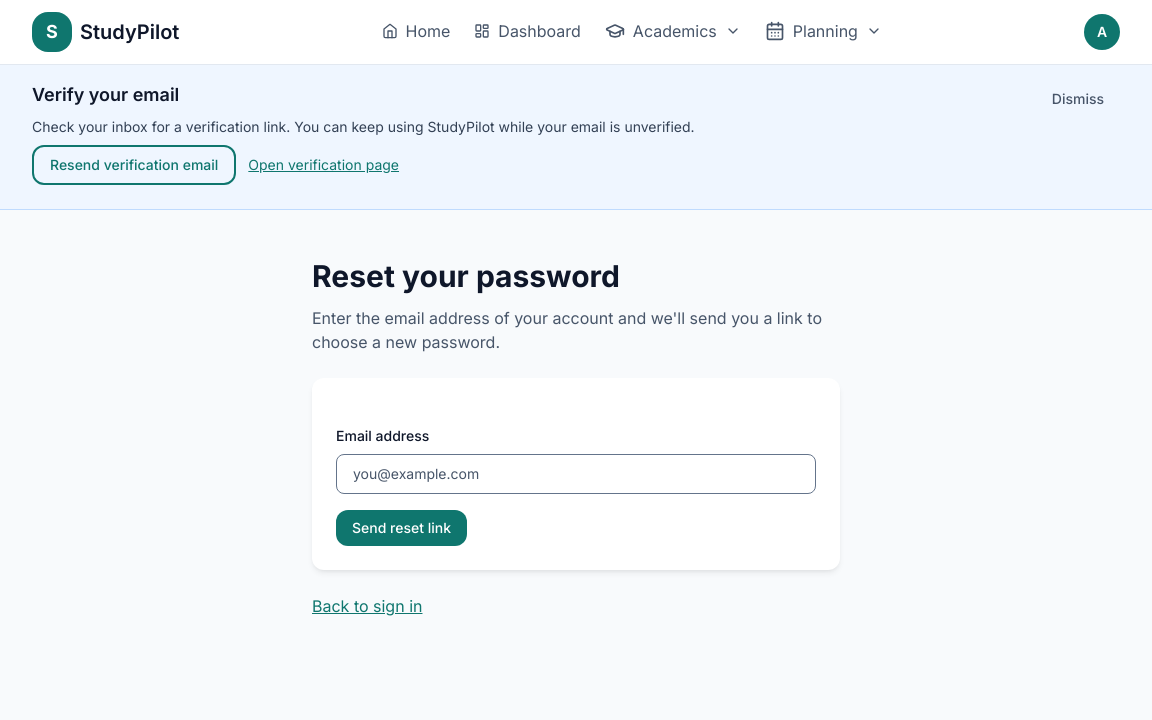
ForgotPasswordPage › is reachable while signed in=true and the request preserves the session
Step 1. Type "ada@example.com" into the field labelled "Email address" → [576, 474], box [336, 454, 816, 494]
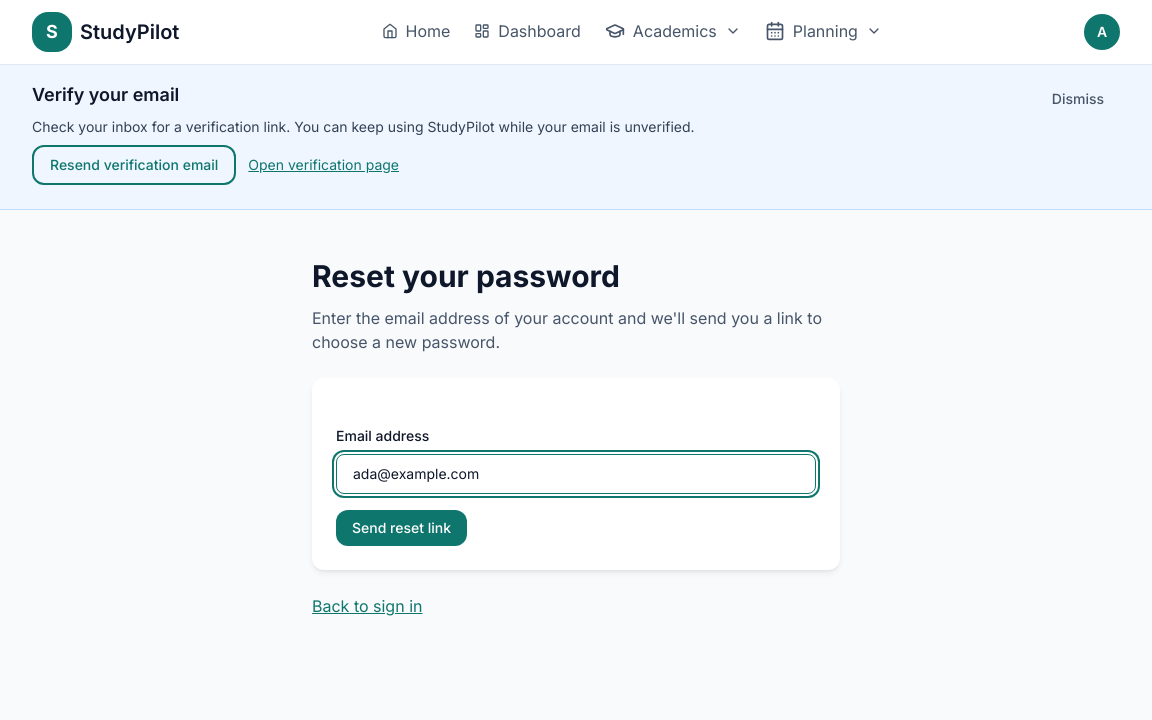
Step 2. Click the button "Send reset link" → [402, 528], box [336, 510, 467, 546]
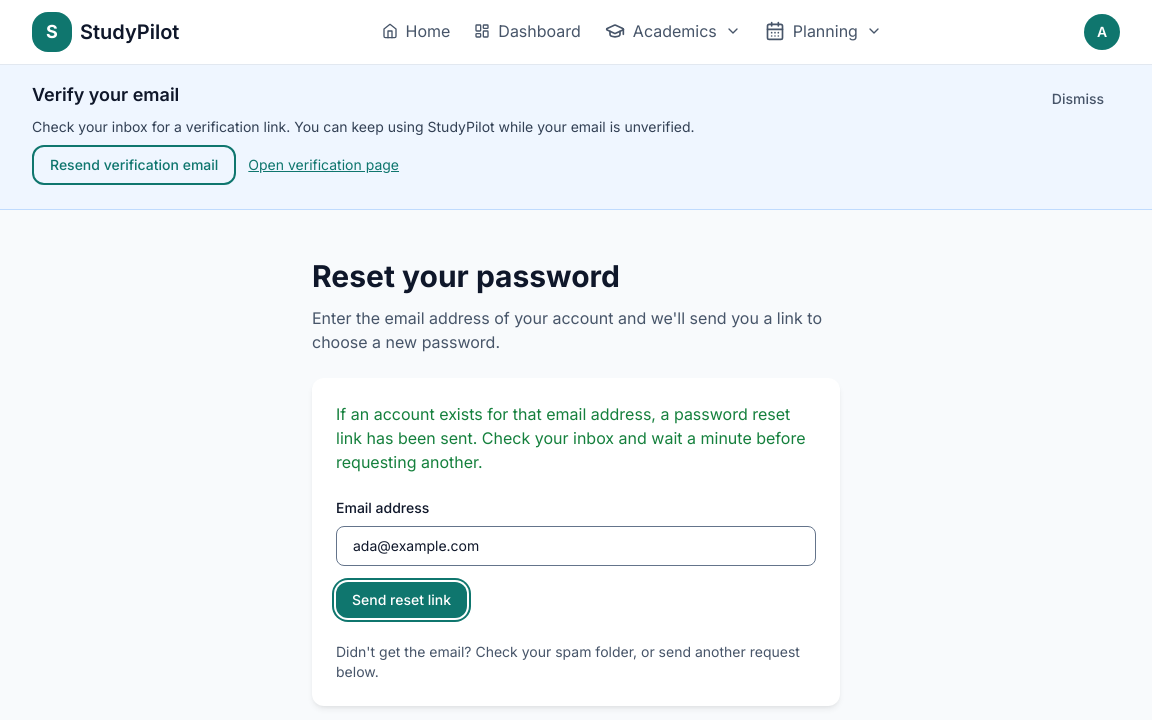
Expected: the button named "Open account menu" is shown, [1084, 14, 1120, 50]
Now the text "If an account exists for that email address, a password reset link has been sent. Check your inbox and wait a minute bef" is shown, box [336, 404, 806, 472]
